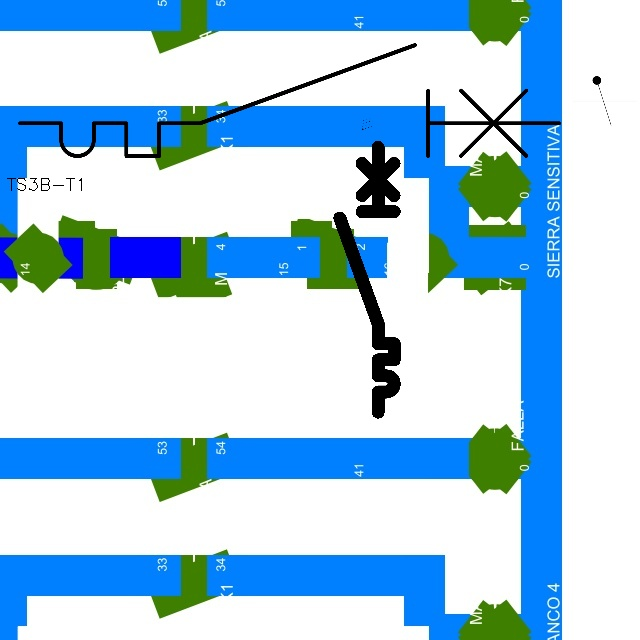interruptor_termomagnetico: (6, 31, 573, 170), (333, 140, 401, 418)
